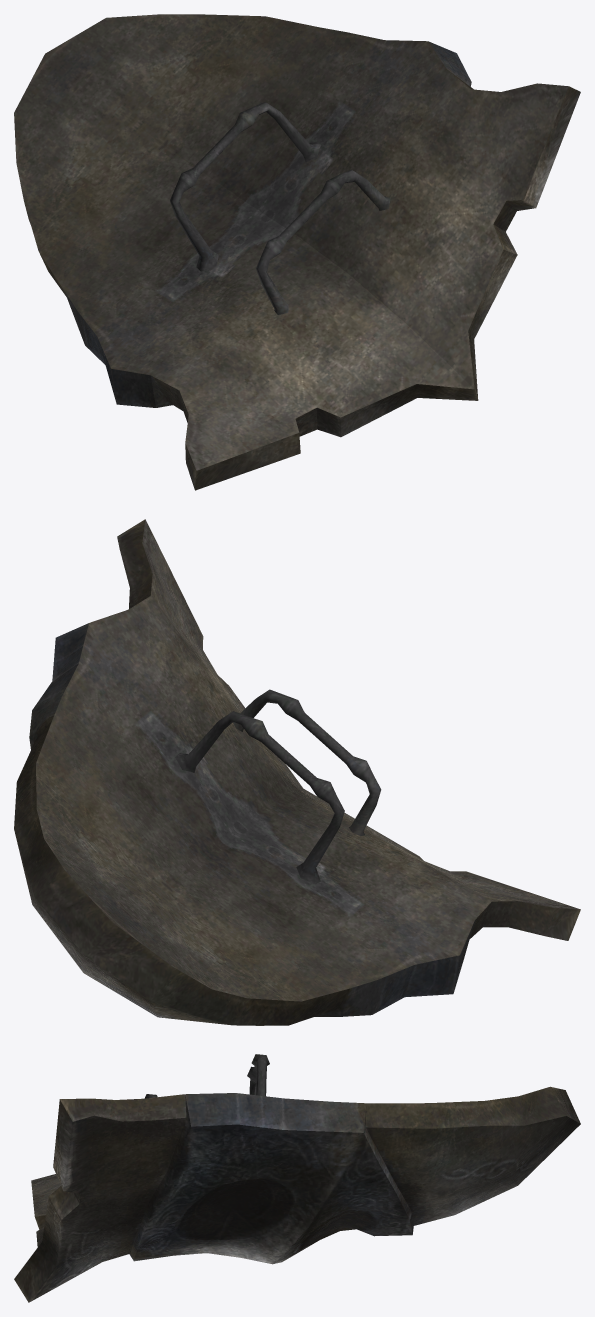
File: msh.glb
3 renders of one model, top to bottom at view 1: azimuth 30°, elevation 25°; view 2: azimuth 150°, elevation 25°; view 3: azimuth 270°, elevation 25°, orthographic. The views are drawn at different scales.
Visible parts, largest first — view 1: mesh_338; view 2: mesh_338; view 3: mesh_338.
Boxes of the visible parts, x1=… form: mesh_338: x1=14, y1=14, x2=580, y2=490; mesh_338: x1=14, y1=519, x2=580, y2=1025; mesh_338: x1=14, y1=1054, x2=580, y2=1302.
Size of the model in its own units: 10.01 by 7.15 by 13.23.
Materials: 1 (1 with a texture image).
